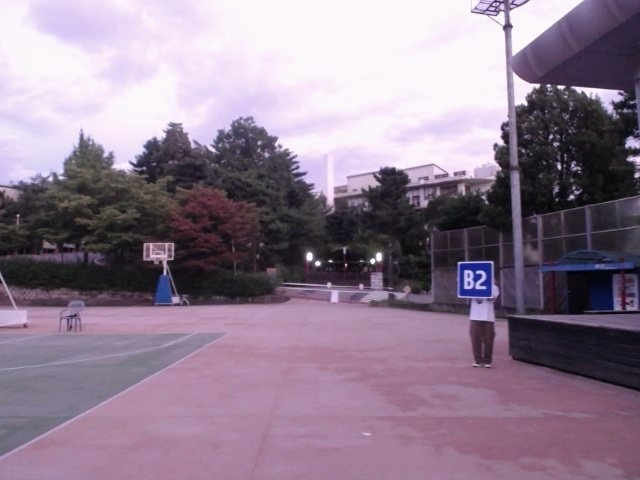delivery_b2: (457, 261, 493, 298)
